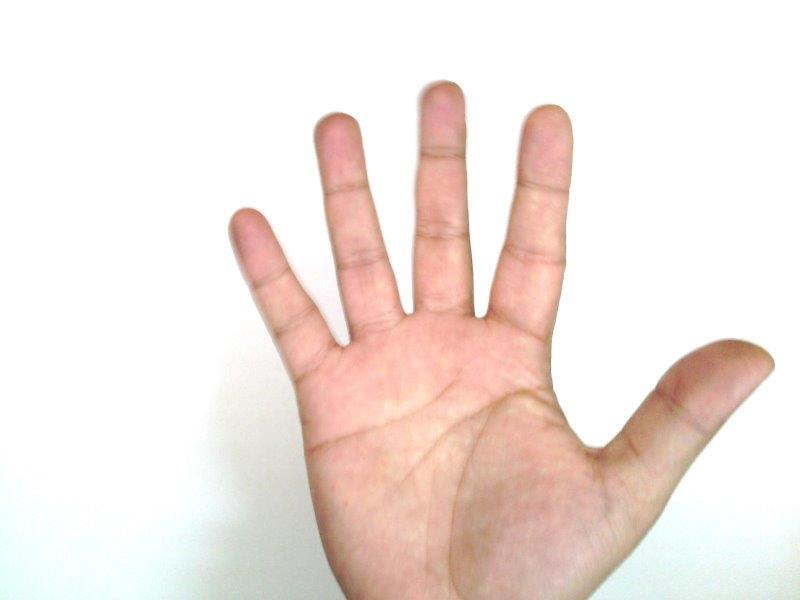hand: (230, 82, 775, 600)
